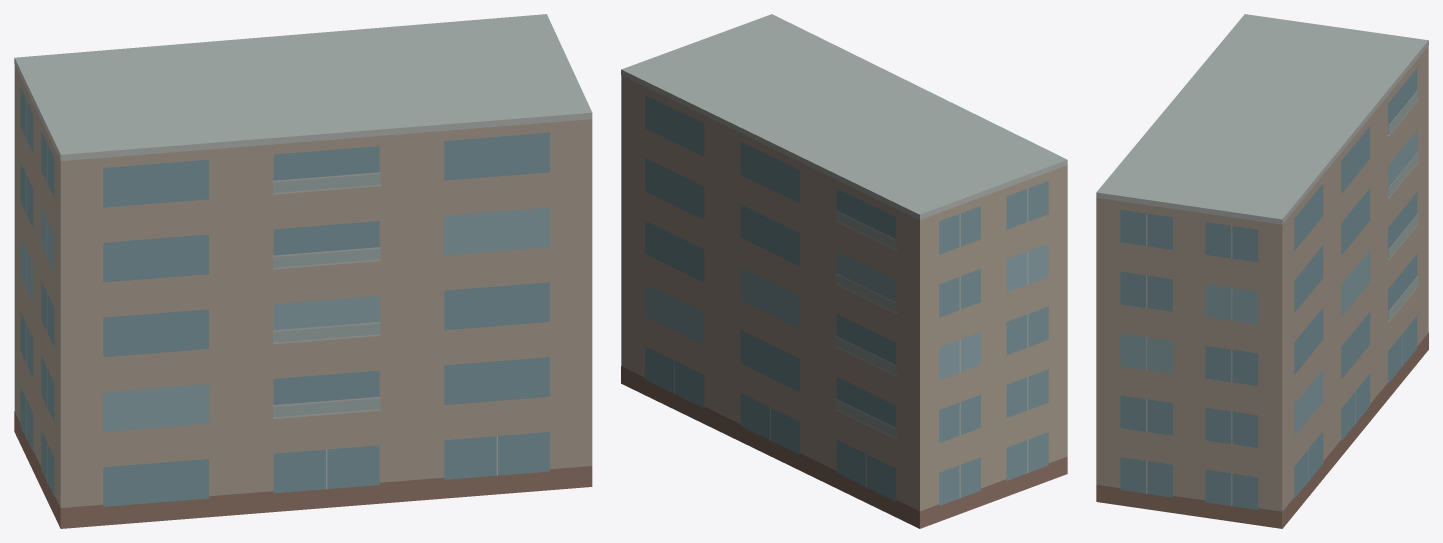
File: survey-upis-32979983.glb
3 renders of one model, left to right at view 1: azimuth 30°, elevation 25°; view 2: azimuth 150°, elevation 25°; view 3: azimuth 270°, elevation 25°, orthographic. The views are drawn at different scales.
Visible parts, largest first — view 1: survey-upis-32979983.tmp; view 2: survey-upis-32979983.tmp; view 3: survey-upis-32979983.tmp.
Boxes of the visible parts, x1,y1,x2,y2 form: survey-upis-32979983.tmp: (14, 14, 592, 528); survey-upis-32979983.tmp: (621, 14, 1067, 528); survey-upis-32979983.tmp: (1096, 14, 1428, 528).
Size of the model in its own units: 20.3 by 14.25 by 13.89.
